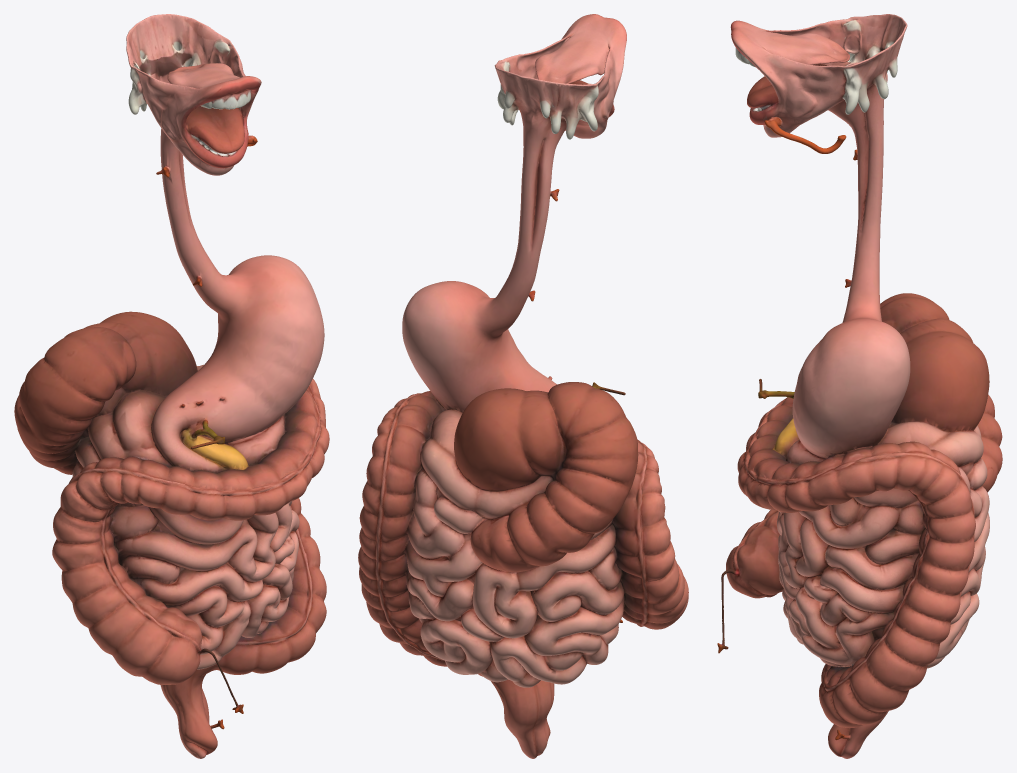
The model's file is digestive-system.glb.
3 views of the same model, side by side, from view 1: azimuth 30°, elevation 25°; view 2: azimuth 150°, elevation 25°; view 3: azimuth 270°, elevation 25° (orthographic). The views are drawn at different scales.
Visible parts, largest first — view 1: tripo_node_bb89c6c7-cefd-4622-94b5-5ed30b821fa0; view 2: tripo_node_bb89c6c7-cefd-4622-94b5-5ed30b821fa0; view 3: tripo_node_bb89c6c7-cefd-4622-94b5-5ed30b821fa0.
Boxes of the visible parts, x1,y1,x2,y2 form: tripo_node_bb89c6c7-cefd-4622-94b5-5ed30b821fa0: (14,14,329,758); tripo_node_bb89c6c7-cefd-4622-94b5-5ed30b821fa0: (358,14,688,758); tripo_node_bb89c6c7-cefd-4622-94b5-5ed30b821fa0: (717,14,1002,758).
Bounding box in the file's own units: 0.4105 × 0.9999 × 0.3561.
1 material, 1 textured.
